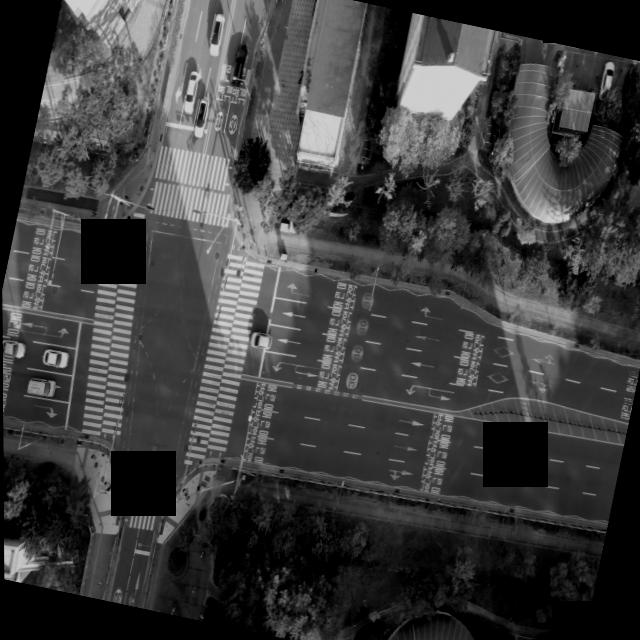car: (594, 55, 619, 101), (204, 9, 225, 56), (180, 70, 199, 113), (23, 376, 54, 399), (191, 96, 208, 137), (229, 44, 245, 84), (42, 348, 69, 370), (249, 330, 273, 350), (2, 339, 22, 359)
